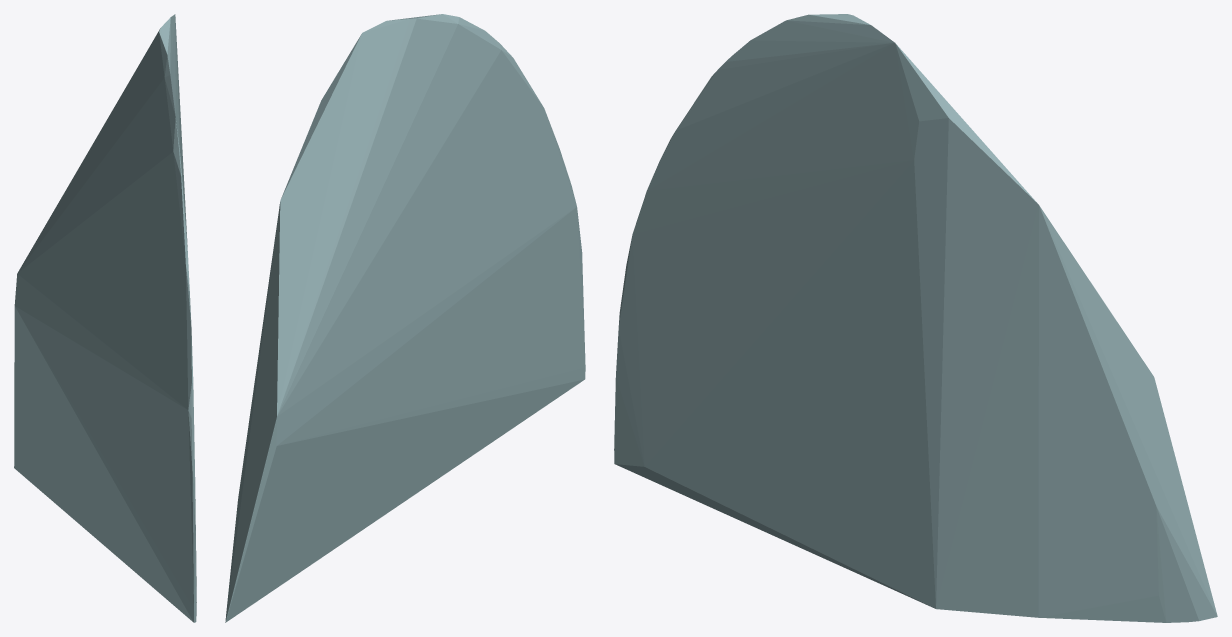
File: bodyPart_door_rear_c01.glb
The picture shows the model from 3 angles, left to right: view 1: azimuth 30°, elevation 25°; view 2: azimuth 150°, elevation 25°; view 3: azimuth 270°, elevation 25°; orthographic projection. The views are drawn at different scales.
Parts seen in each view (by area): view 1: geometry_0; view 2: geometry_0; view 3: geometry_0.
Part boxes in pixels (x1,y1,x2,y2): geometry_0: (14,14,196,622); geometry_0: (225,14,585,622); geometry_0: (614,14,1217,622).
Size of the model in its own units: 0.1257 by 0.4797 by 0.449.
